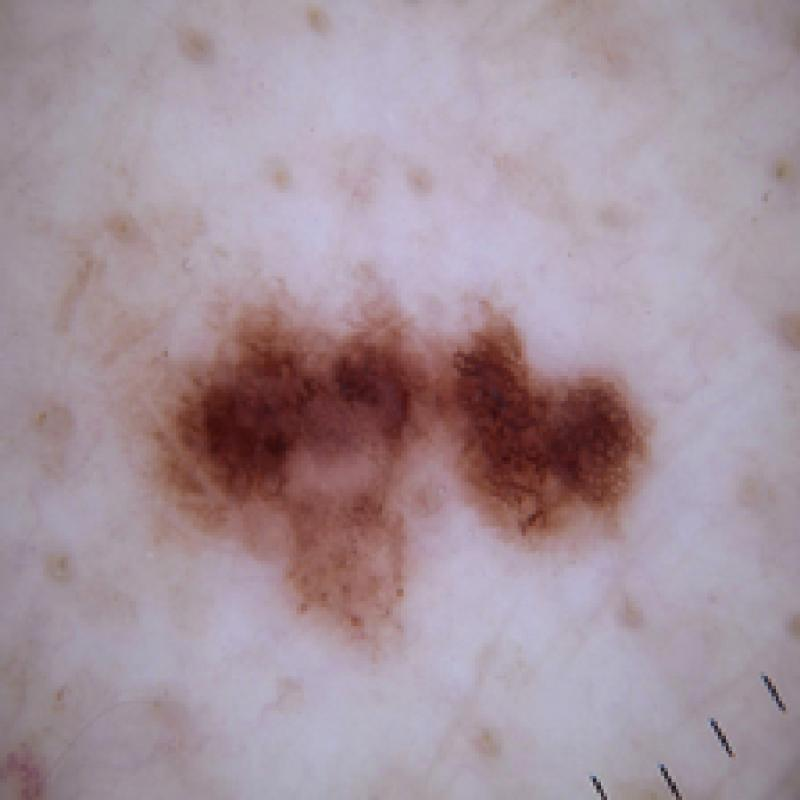benign: (145, 265, 654, 653)
